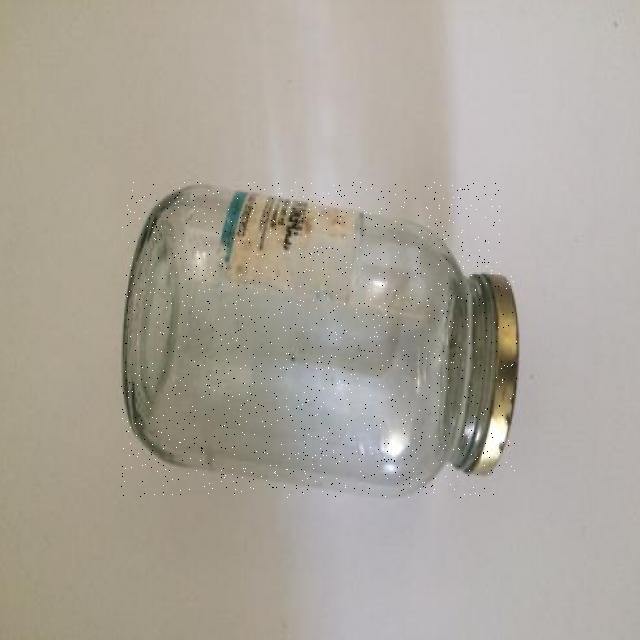glass: (122, 182, 500, 498)
metal: (474, 275, 517, 473)
